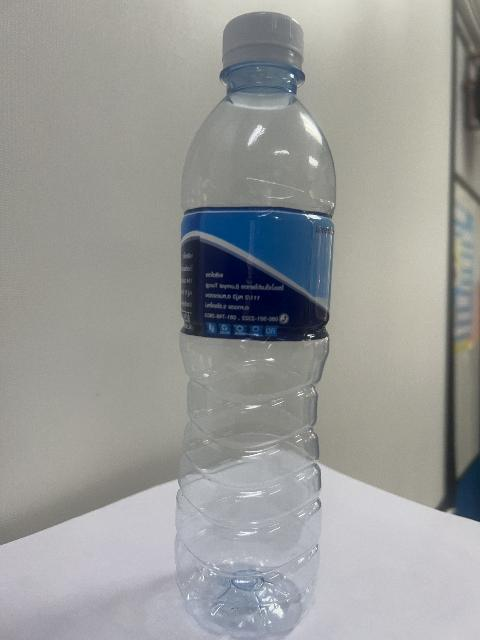bottle: (175, 13, 334, 638)
